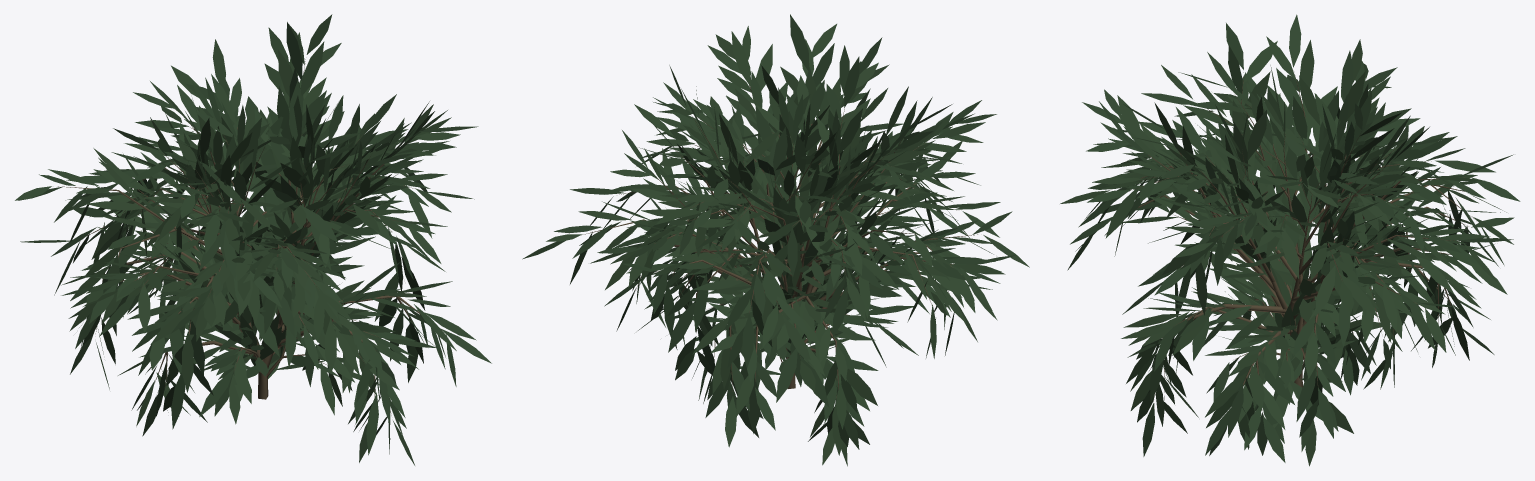
The model's file is Tree_02.fbx.
3 renders of one model, left to right at view 1: azimuth 30°, elevation 25°; view 2: azimuth 150°, elevation 25°; view 3: azimuth 270°, elevation 25°, orthographic. The views are drawn at different scales.
Parts seen in each view (by area): view 1: leaves, Tree_02; view 2: leaves, Tree_02; view 3: leaves, Tree_02.
Boxes of the visible parts, x1,y1,x2,y2 form: leaves: (15, 14, 491, 465); Tree_02: (58, 59, 441, 415); leaves: (522, 14, 1029, 466); Tree_02: (581, 85, 977, 398); leaves: (1060, 14, 1520, 466); Tree_02: (1133, 72, 1473, 413).
Size of the model in its own units: 235 by 199 by 223.
